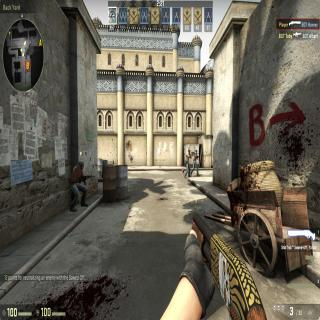T-Body: (70, 160, 85, 212), (186, 149, 191, 179), (193, 149, 198, 177)
T-Head: (78, 159, 84, 170), (188, 149, 190, 155), (195, 149, 197, 154)
